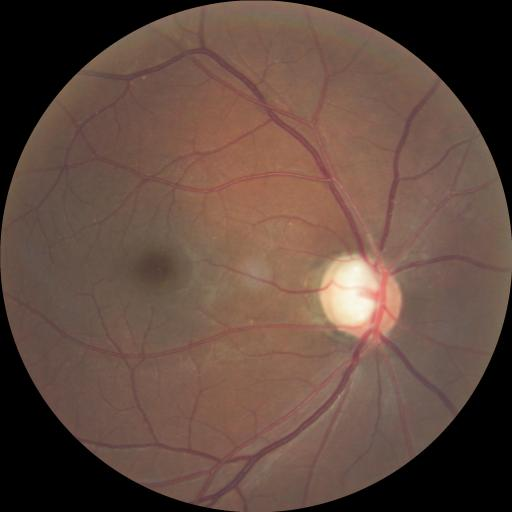Optic Cup: (327, 260, 377, 325)
Optic Disc: (320, 254, 402, 338)
